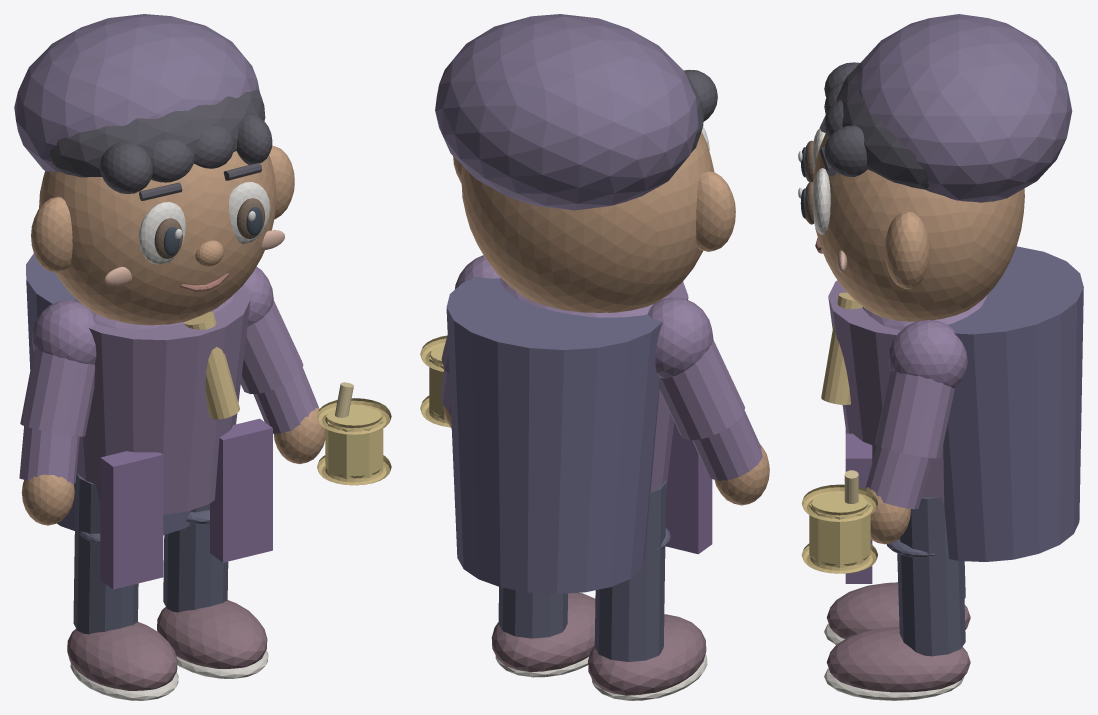
The model's file is 06_Quest_Keeper.glb.
The picture shows the model from 3 angles, left to right: view 1: azimuth 30°, elevation 25°; view 2: azimuth 150°, elevation 25°; view 3: azimuth 270°, elevation 25°; orthographic projection. The views are drawn at different scales.
Parts seen in each view (by area): view 1: 06_Quest_Keeper_head_019, 06_Quest_Keeper_hood_outer_049, 06_Quest_Keeper_torso_008, 06_Quest_Keeper_long_coat_left_045, 06_Quest_Keeper_long_coat_right_046, 06_Quest_Keeper_hair_main_039, 06_Quest_Keeper_shoe_000, 06_Quest_Keeper_shoe_004, 06_Quest_Keeper_pant_leg_002, 06_Quest_Keeper_upper_arm_012, 06_Quest_Keeper_pant_leg_006, 06_Quest_Keeper_upper_arm_016 (+24 smaller); view 2: 06_Quest_Keeper_cape_044, 06_Quest_Keeper_hood_outer_049, 06_Quest_Keeper_head_019, 06_Quest_Keeper_pant_leg_002, 06_Quest_Keeper_upper_arm_012, 06_Quest_Keeper_shoe_000, 06_Quest_Keeper_long_coat_left_045, 06_Quest_Keeper_shoe_004, 06_Quest_Keeper_shoulder_011, 06_Quest_Keeper_pant_leg_006, 06_Quest_Keeper_forearm_013, 06_Quest_Keeper_ear_020 (+8 smaller); view 3: 06_Quest_Keeper_cape_044, 06_Quest_Keeper_hood_outer_049, 06_Quest_Keeper_head_019, 06_Quest_Keeper_pant_leg_006, 06_Quest_Keeper_torso_008, 06_Quest_Keeper_shoe_004, 06_Quest_Keeper_upper_arm_016, 06_Quest_Keeper_shoulder_015, 06_Quest_Keeper_hair_main_039, 06_Quest_Keeper_lantern_body_052, 06_Quest_Keeper_shoe_000, 06_Quest_Keeper_forearm_017 (+13 smaller).
Part boxes in pixels (left/top/right/bottom): 06_Quest_Keeper_head_019: left=39, top=151, right=276, bottom=325; 06_Quest_Keeper_hood_outer_049: left=14, top=14, right=259, bottom=171; 06_Quest_Keeper_torso_008: left=76, top=289, right=250, bottom=514; 06_Quest_Keeper_long_coat_left_045: left=100, top=451, right=163, bottom=589; 06_Quest_Keeper_long_coat_right_046: left=210, top=418, right=272, bottom=562; 06_Quest_Keeper_hair_main_039: left=49, top=89, right=265, bottom=177; 06_Quest_Keeper_shoe_000: left=67, top=622, right=177, bottom=690; 06_Quest_Keeper_shoe_004: left=157, top=600, right=267, bottom=668; 06_Quest_Keeper_pant_leg_002: left=73, top=473, right=138, bottom=634; 06_Quest_Keeper_upper_arm_012: left=20, top=350, right=95, bottom=436; 06_Quest_Keeper_pant_leg_006: left=163, top=504, right=228, bottom=612; 06_Quest_Keeper_upper_arm_016: left=241, top=300, right=303, bottom=393; 06_Quest_Keeper_cape_044: left=446, top=276, right=662, bottom=593; 06_Quest_Keeper_hood_outer_049: left=435, top=14, right=698, bottom=210; 06_Quest_Keeper_head_019: left=461, top=131, right=714, bottom=312; 06_Quest_Keeper_pant_leg_002: left=594, top=480, right=666, bottom=661; 06_Quest_Keeper_upper_arm_012: left=659, top=339, right=744, bottom=440; 06_Quest_Keeper_shoe_000: left=588, top=614, right=706, bottom=695; 06_Quest_Keeper_long_coat_left_045: left=665, top=422, right=712, bottom=554; 06_Quest_Keeper_shoe_004: left=491, top=592, right=595, bottom=672; 06_Quest_Keeper_shoulder_011: left=648, top=297, right=713, bottom=378; 06_Quest_Keeper_pant_leg_006: left=498, top=587, right=567, bottom=638; 06_Quest_Keeper_forearm_013: left=692, top=410, right=762, bottom=480; 06_Quest_Keeper_ear_020: left=696, top=170, right=735, bottom=251; 06_Quest_Keeper_cape_044: left=943, top=246, right=1083, bottom=561; 06_Quest_Keeper_hood_outer_049: left=857, top=14, right=1072, bottom=202; 06_Quest_Keeper_head_019: left=813, top=133, right=1024, bottom=321; 06_Quest_Keeper_pant_leg_006: left=897, top=497, right=965, bottom=656; 06_Quest_Keeper_torso_008: left=828, top=280, right=944, bottom=504; 06_Quest_Keeper_shoe_004: left=826, top=627, right=970, bottom=692; 06_Quest_Keeper_upper_arm_016: left=875, top=371, right=954, bottom=458; 06_Quest_Keeper_shoulder_015: left=888, top=320, right=967, bottom=388; 06_Quest_Keeper_hair_main_039: left=836, top=62, right=928, bottom=189; 06_Quest_Keeper_lantern_body_052: left=809, top=491, right=870, bottom=567; 06_Quest_Keeper_shoe_000: left=826, top=582, right=970, bottom=638; 06_Quest_Keeper_forearm_017: left=865, top=446, right=932, bottom=509.
Bounding box in the file's own units: 1.36 × 2.39 × 0.9713.
